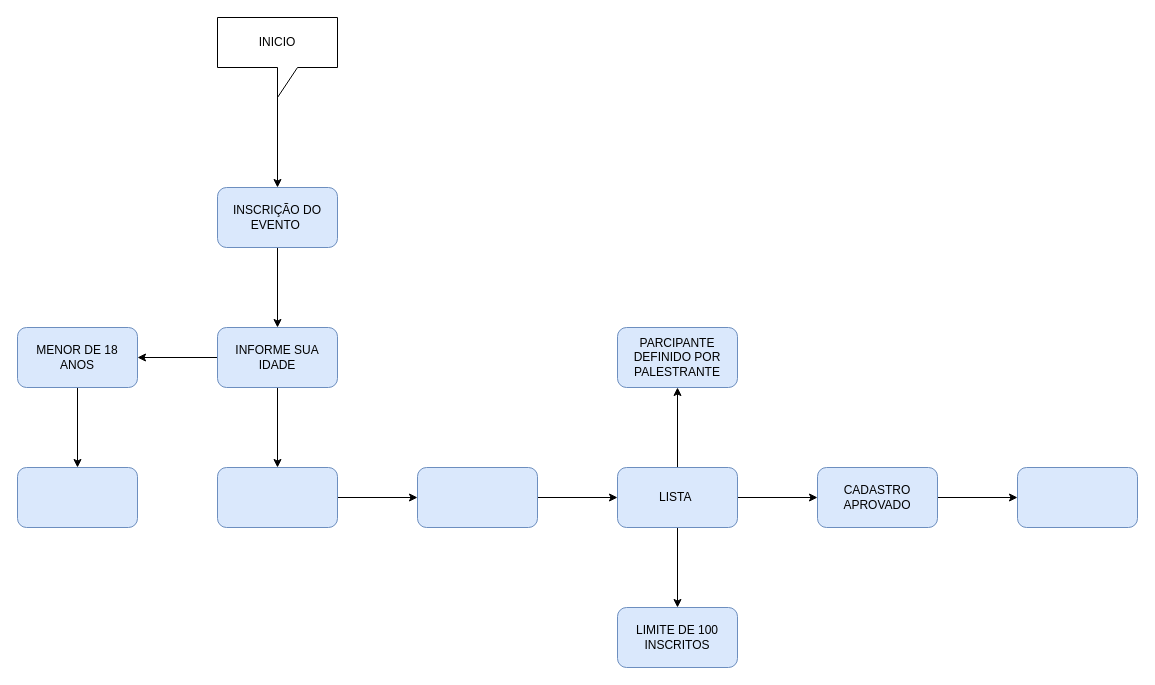
This 1155x685 diagram has some shape labels left out. The centre of each missing label's shape, as x and y in pixels:
"FINALIZADO COM SUCESSO." belongs at point (1077, 497).
"MAIOR DE 18 ANOS" belongs at point (277, 497).
"NÃO" belongs at point (77, 497).
"SIM" belongs at point (477, 497).
